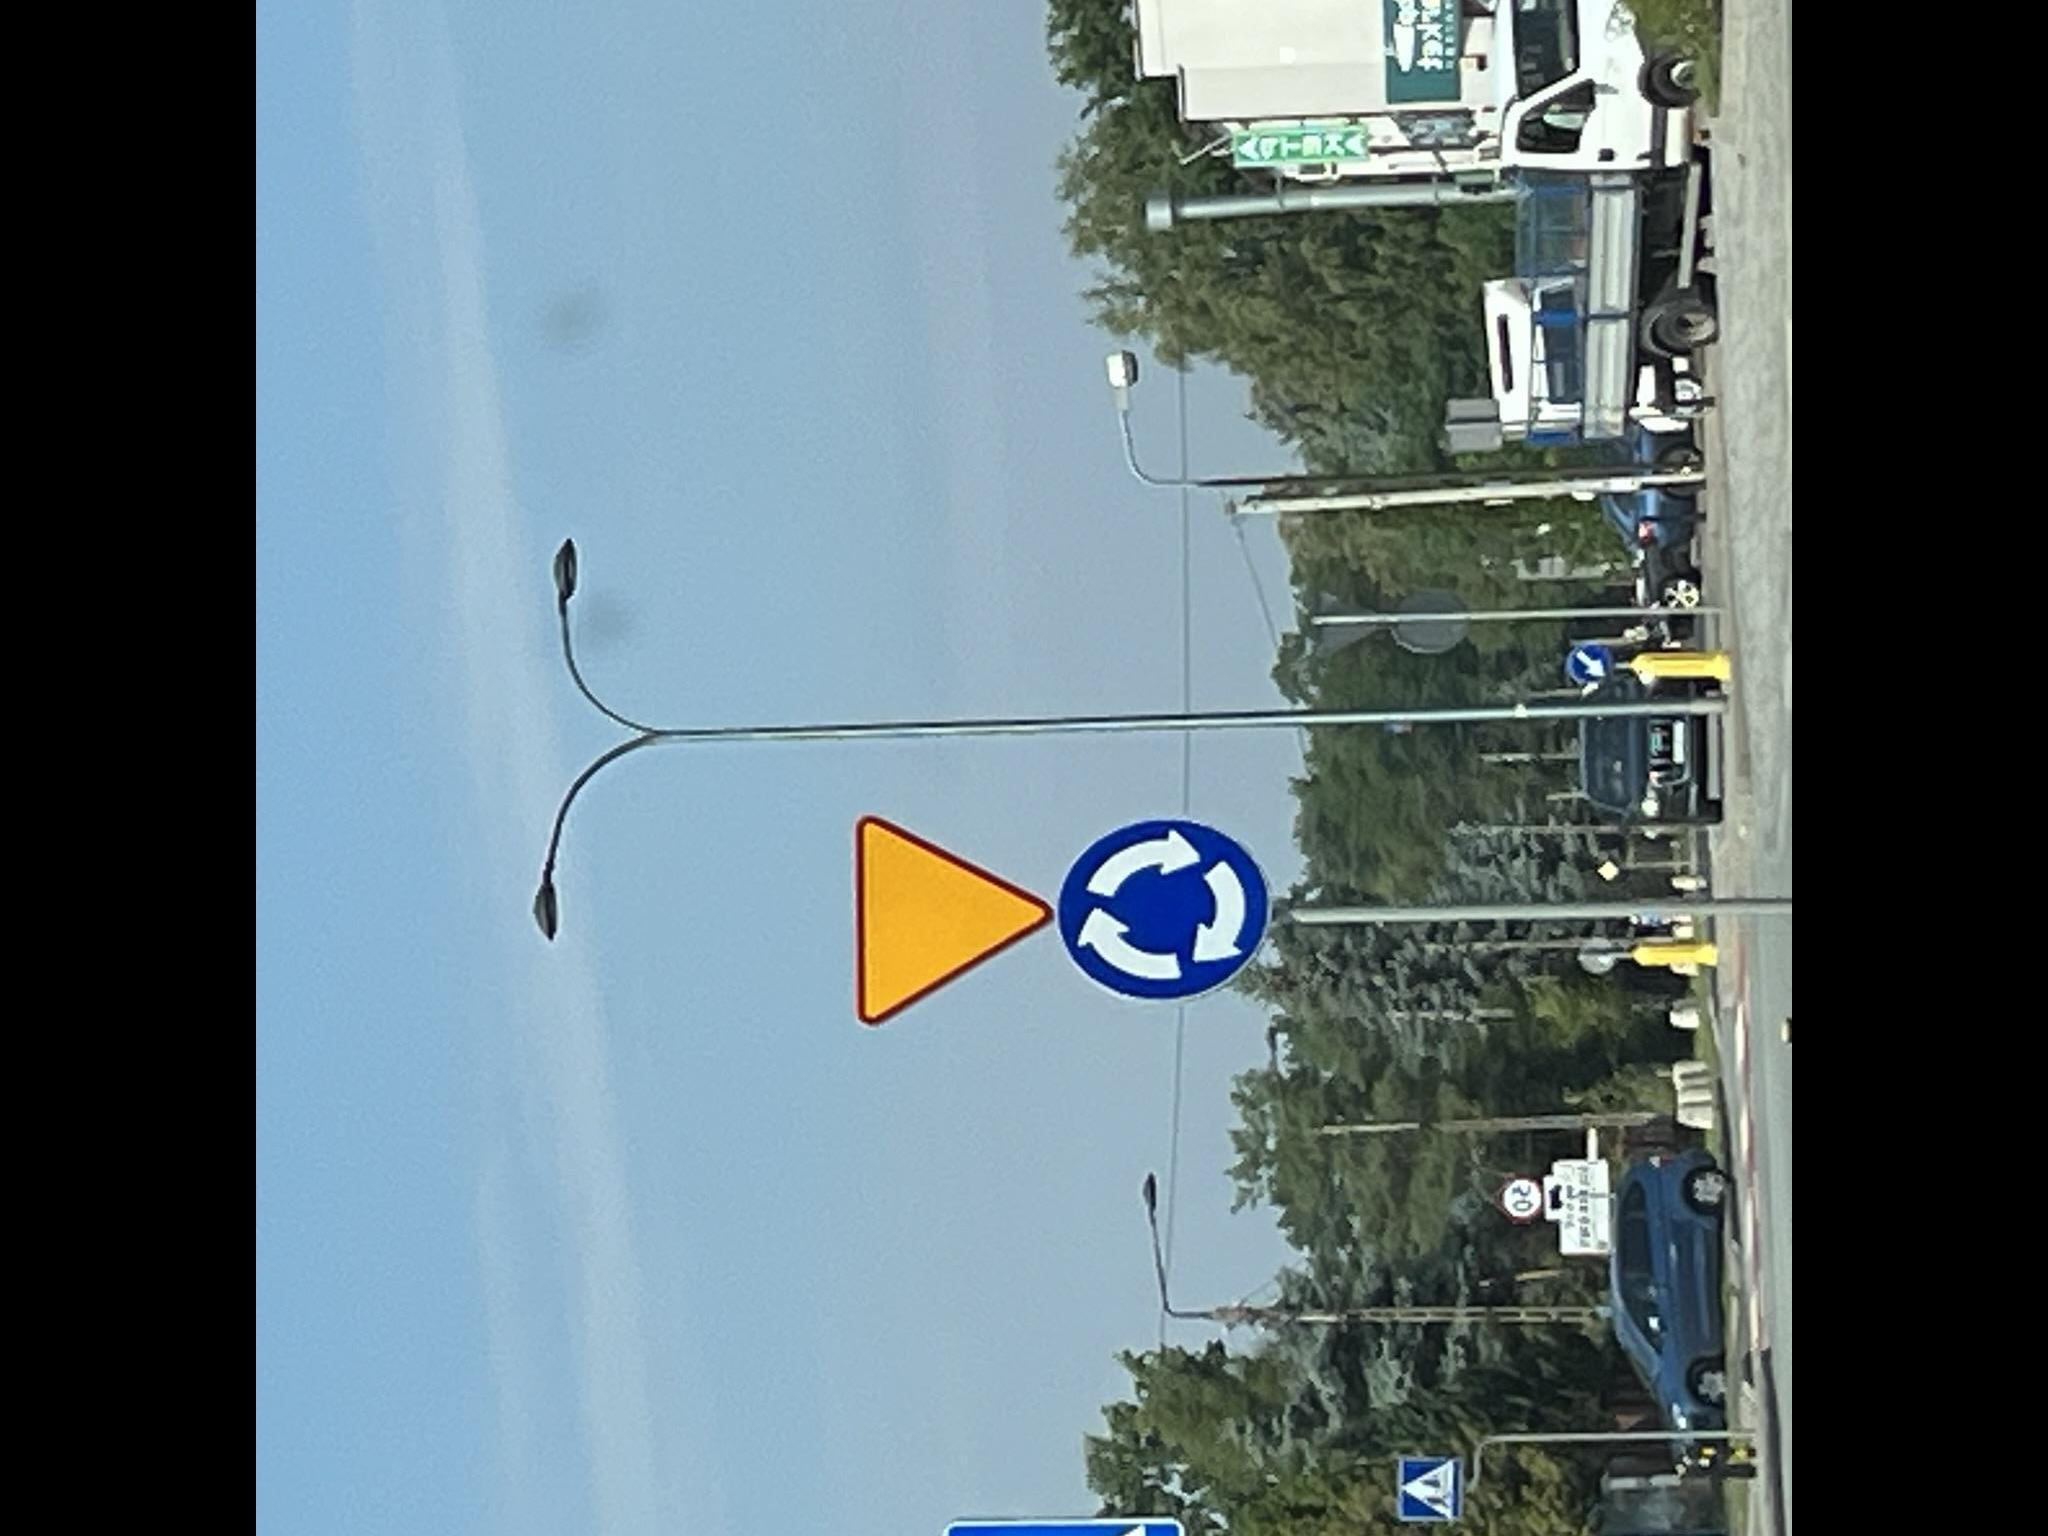information: (1397, 1454, 1463, 1525)
mandatory: (1056, 818, 1272, 1007), (1566, 642, 1616, 684)
prohibitory: (1501, 1178, 1543, 1220)
warning: (851, 815, 1056, 1028)
